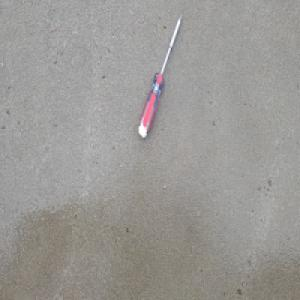Screwdriver: (137, 11, 183, 140)
